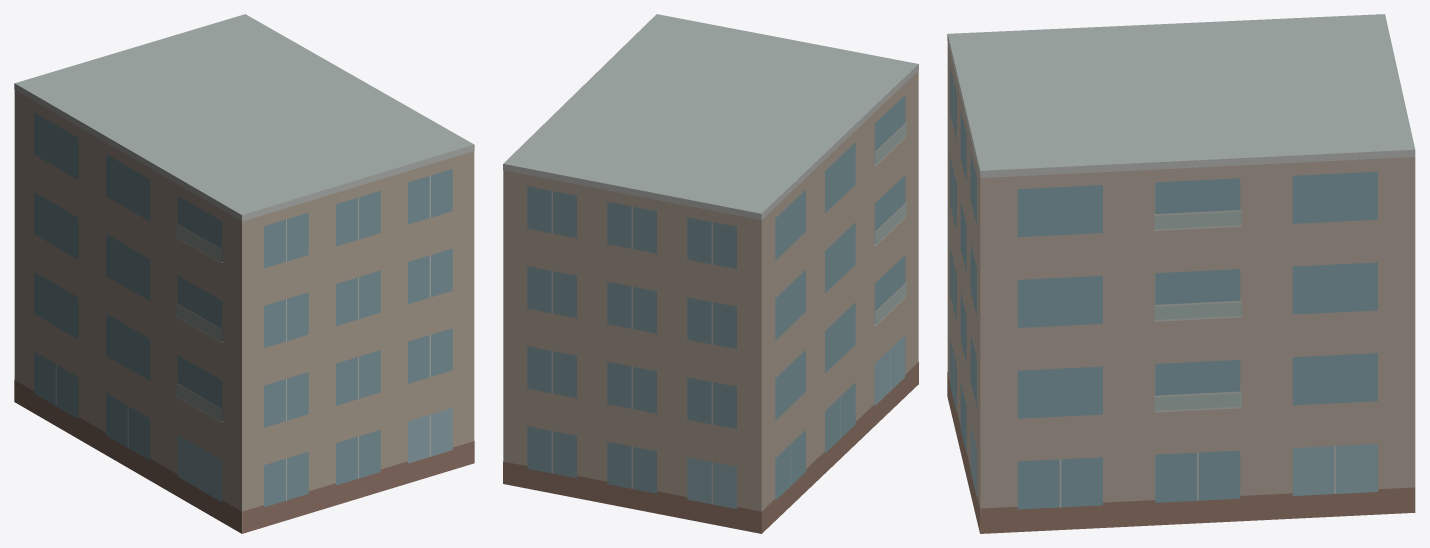
Rendered from survey-upis-32819584.glb.
3 views of the same model, side by side, from view 1: azimuth 30°, elevation 25°; view 2: azimuth 150°, elevation 25°; view 3: azimuth 270°, elevation 25° (orthographic). The views are drawn at different scales.
Parts seen in each view (by area): view 1: survey-upis-32819584.tmp; view 2: survey-upis-32819584.tmp; view 3: survey-upis-32819584.tmp.
Boxes of the visible parts, x1,y1,x2,y2 form: survey-upis-32819584.tmp: (14, 14, 474, 533); survey-upis-32819584.tmp: (503, 14, 918, 533); survey-upis-32819584.tmp: (947, 14, 1415, 533).
Size of the model in its own units: 11.31 by 12.2 by 14.26.
